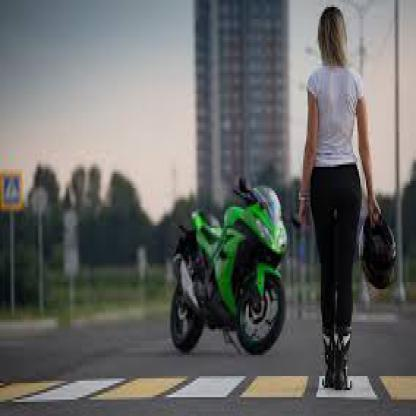Motorcycle: (163, 161, 289, 368)
